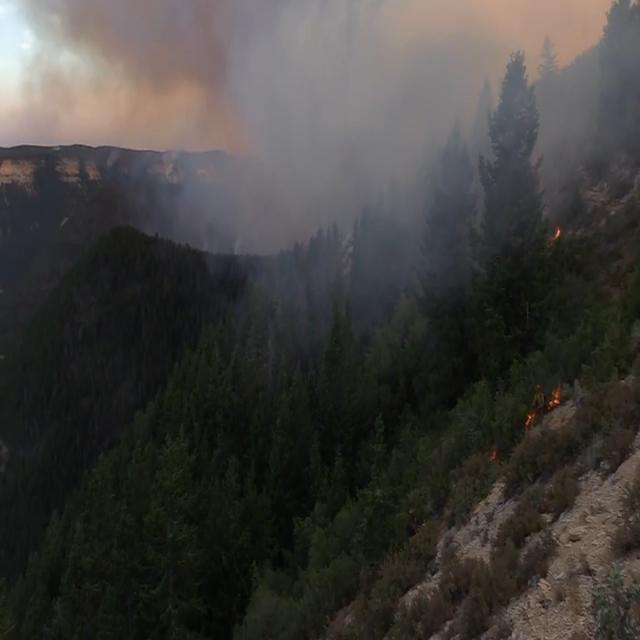Fire: (478, 366, 564, 476)
